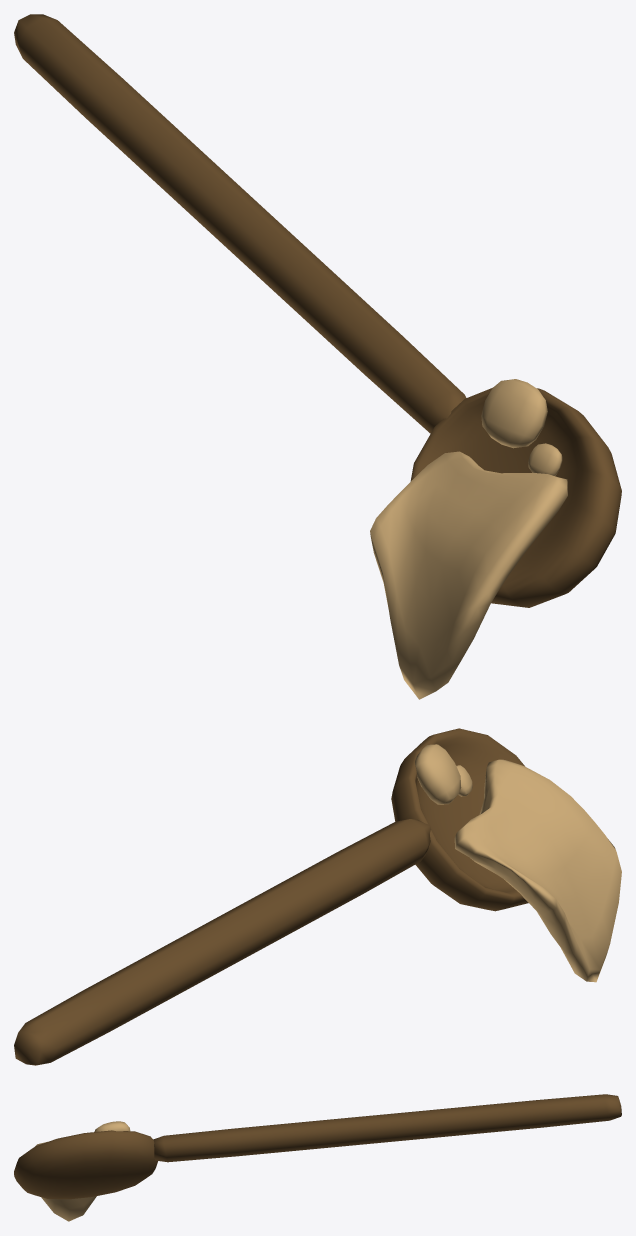
File: Cuillére.fbx
3 renders of one model, top to bottom at view 1: azimuth 30°, elevation 25°; view 2: azimuth 150°, elevation 25°; view 3: azimuth 270°, elevation 25°, orthographic. The views are drawn at different scales.
Visible parts, largest first — view 1: Cube.037; view 2: Cube.037; view 3: Cube.037.
Boxes of the visible parts, box(x1,y1,x2,y2) form: Cube.037: box(14, 14, 621, 699); Cube.037: box(14, 728, 621, 1065); Cube.037: box(14, 1094, 621, 1221).
Size of the model in its own units: 9.77 by 14.26 by 49.72.
